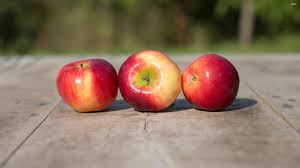apple: (180, 49, 241, 113), (120, 51, 182, 113), (55, 59, 117, 114)
